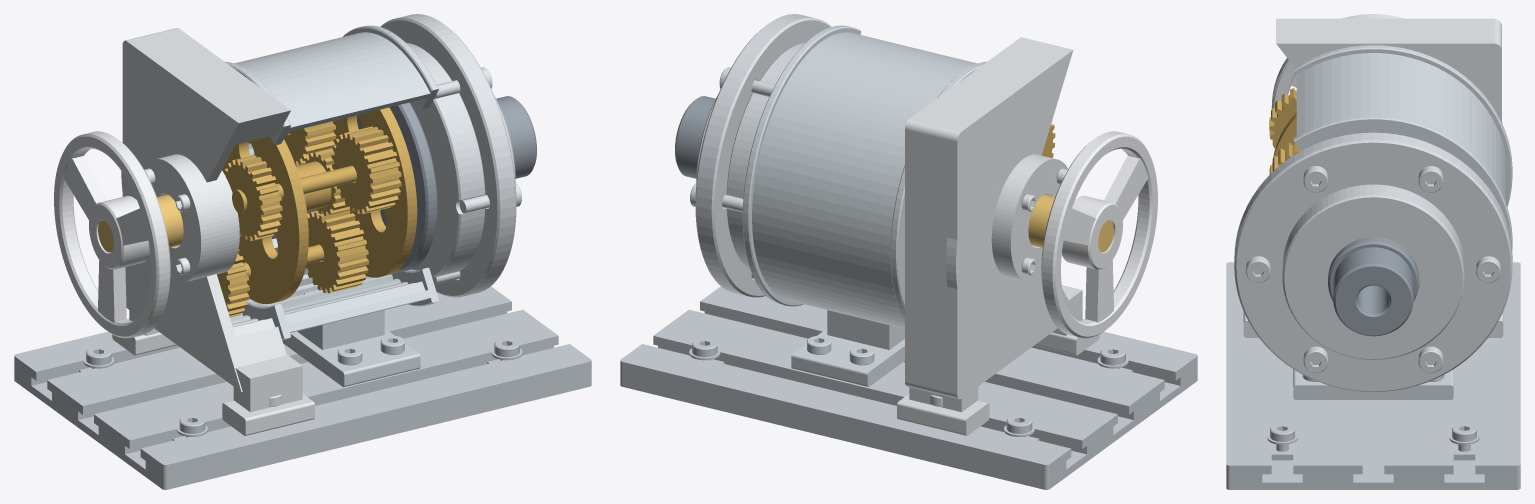
File: cad_v2_09.glb
The picture shows the model from 3 angles, left to right: view 1: azimuth 30°, elevation 25°; view 2: azimuth 150°, elevation 25°; view 3: azimuth 270°, elevation 25°; orthographic projection. The views are drawn at different scales.
Parts seen in each view (by area): view 1: t_slot_baseplate, front_pedestal, planet_carrier_module, rear_ring_barrel, output_bearing_cap, input_handwheel, hollow_output_shaft, brass_input_sun_shaft; view 2: rear_ring_barrel, t_slot_baseplate, front_pedestal, input_handwheel, output_bearing_cap, hollow_output_shaft, brass_input_sun_shaft; view 3: output_bearing_cap, t_slot_baseplate, rear_ring_barrel, front_pedestal, hollow_output_shaft, planet_carrier_module, input_handwheel.
Part boxes in pixels (x1=…): t_slot_baseplate: x1=14, y1=286, x2=591, y2=489; front_pedestal: x1=112, y1=28, x2=314, y2=435; planet_carrier_module: x1=217, y1=107, x2=417, y2=317; rear_ring_barrel: x1=225, y1=25, x2=438, y2=387; output_bearing_cap: x1=380, y1=14, x2=521, y2=297; input_handwheel: x1=54, y1=131, x2=170, y2=338; hollow_output_shaft: x1=357, y1=96, x2=536, y2=272; brass_input_sun_shaft: x1=98, y1=175, x2=240, y2=252; rear_ring_barrel: x1=742, y1=25, x2=986, y2=387; t_slot_baseplate: x1=620, y1=286, x2=1197, y2=489; front_pedestal: x1=897, y1=37, x2=1099, y2=435; input_handwheel: x1=1041, y1=131, x2=1157, y2=338; output_bearing_cap: x1=690, y1=14, x2=831, y2=297; hollow_output_shaft: x1=675, y1=96, x2=715, y2=178; brass_input_sun_shaft: x1=1028, y1=194, x2=1113, y2=252; output_bearing_cap: x1=1234, y1=132, x2=1512, y2=392; t_slot_baseplate: x1=1226, y1=262, x2=1520, y2=489; rear_ring_barrel: x1=1293, y1=45, x2=1512, y2=399; front_pedestal: x1=1243, y1=18, x2=1503, y2=337; hollow_output_shaft: x1=1328, y1=237, x2=1418, y2=336; planet_carrier_module: x1=1269, y1=88, x2=1300, y2=174; input_handwheel: x1=1271, y1=14, x2=1404, y2=108.
Bounding box in the file's own units: 0.18 × 0.13 × 0.11.
